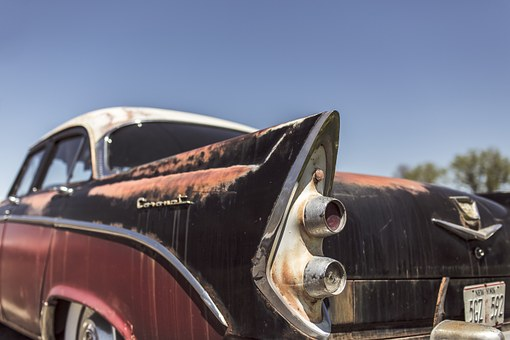rust: (92, 155, 266, 205), (338, 165, 439, 202), (21, 193, 66, 212)
